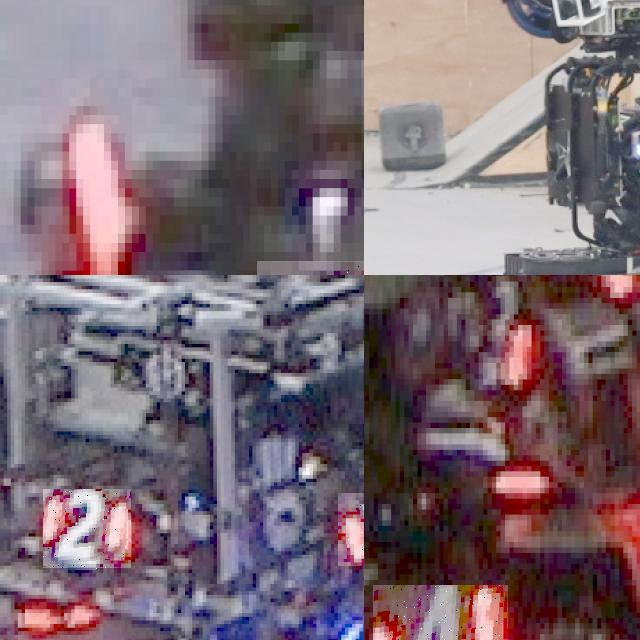R2: (43, 490, 131, 570), (338, 493, 364, 565)
R4: (373, 585, 509, 640)
